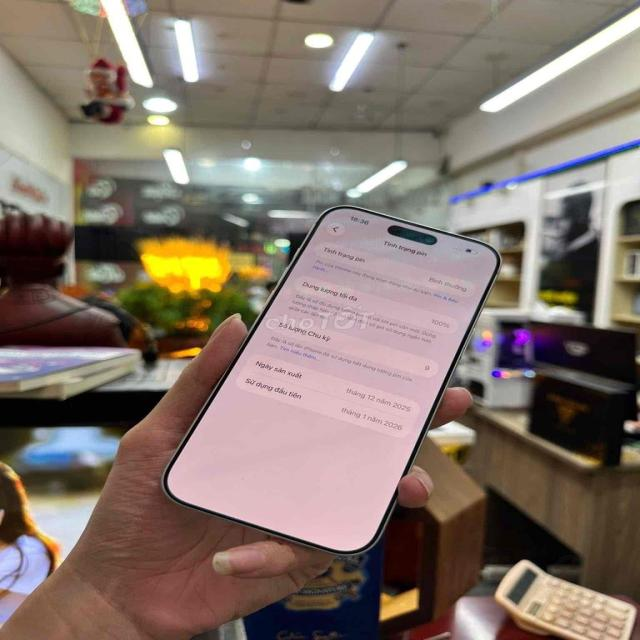gen_17: (161, 188, 514, 557)
